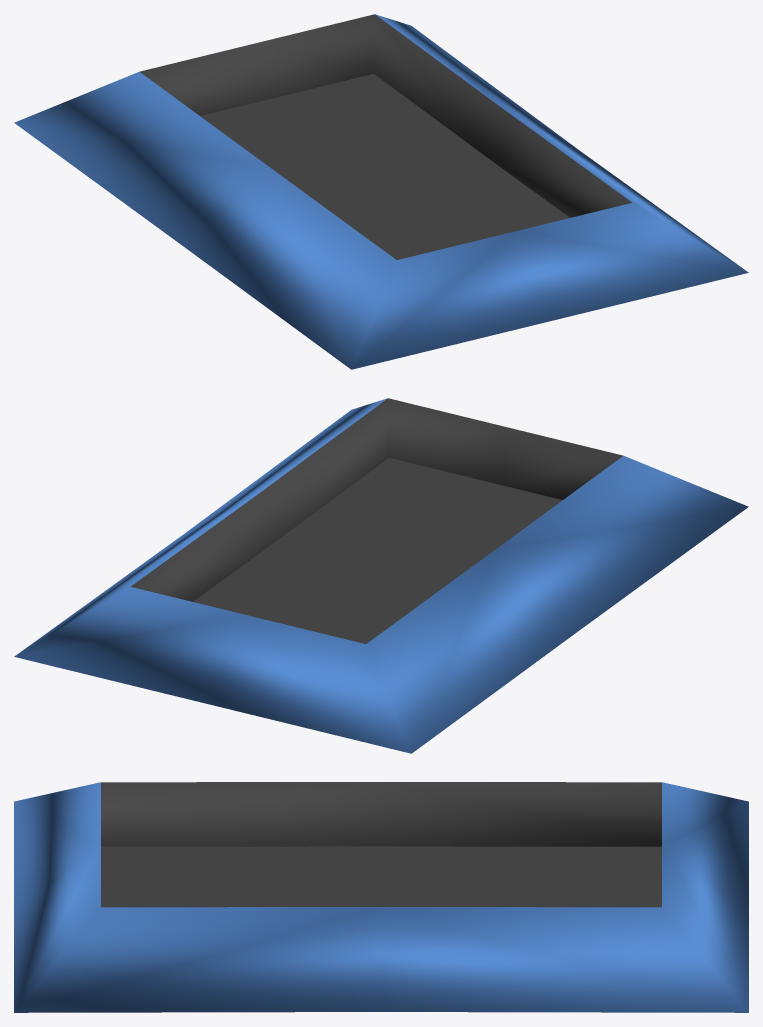
File: ButtonCasing.fbx
3 views of the same model, one above another, from view 1: azimuth 30°, elevation 25°; view 2: azimuth 150°, elevation 25°; view 3: azimuth 270°, elevation 25° (orthographic). The views are drawn at different scales.
Parts seen in each view (by area): view 1: Cube; view 2: Cube; view 3: Cube.
Boxes of the visible parts, left/top/right/bottom form: Cube: left=14, top=14, right=748, bottom=369; Cube: left=14, top=398, right=748, bottom=753; Cube: left=14, top=782, right=748, bottom=1012.
Size of the model in its own units: 147 by 20.99 by 216.
